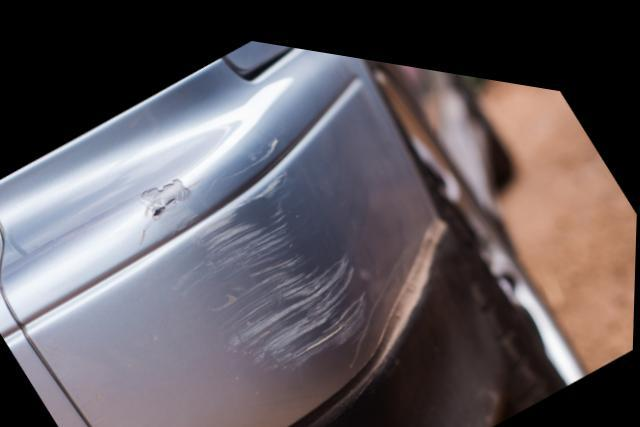scratch: (168, 152, 378, 365), (136, 172, 202, 241)
